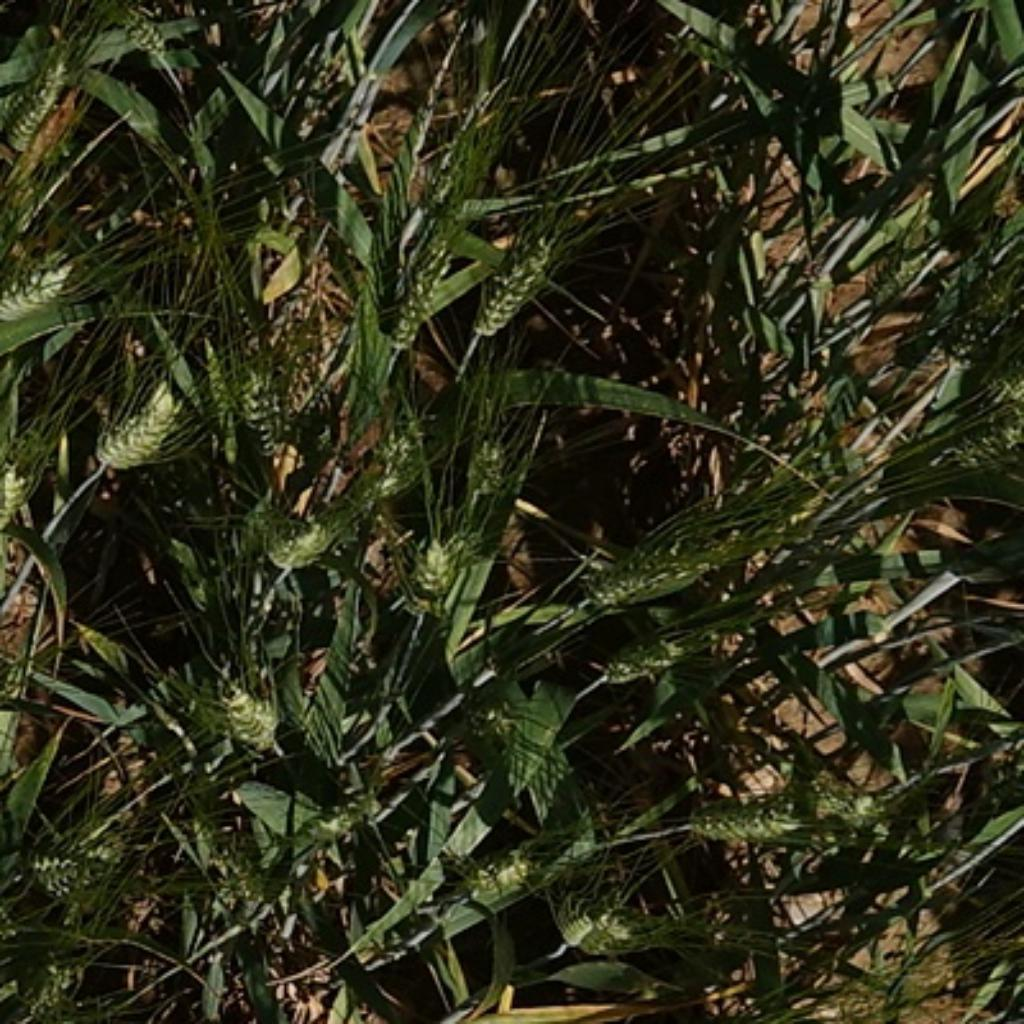0-0: (574, 522, 739, 617), (471, 221, 568, 337), (232, 481, 358, 565), (843, 231, 946, 328), (8, 36, 84, 161), (98, 380, 184, 488), (374, 240, 450, 358), (394, 512, 486, 609), (552, 885, 673, 955), (447, 833, 552, 913), (26, 832, 135, 905), (702, 792, 823, 857), (347, 425, 437, 509), (948, 374, 1024, 473), (460, 419, 535, 519), (0, 235, 76, 332), (192, 670, 284, 747), (587, 633, 695, 697), (461, 677, 535, 769), (0, 435, 46, 573), (796, 770, 903, 829), (232, 351, 293, 453), (107, 2, 184, 76)
